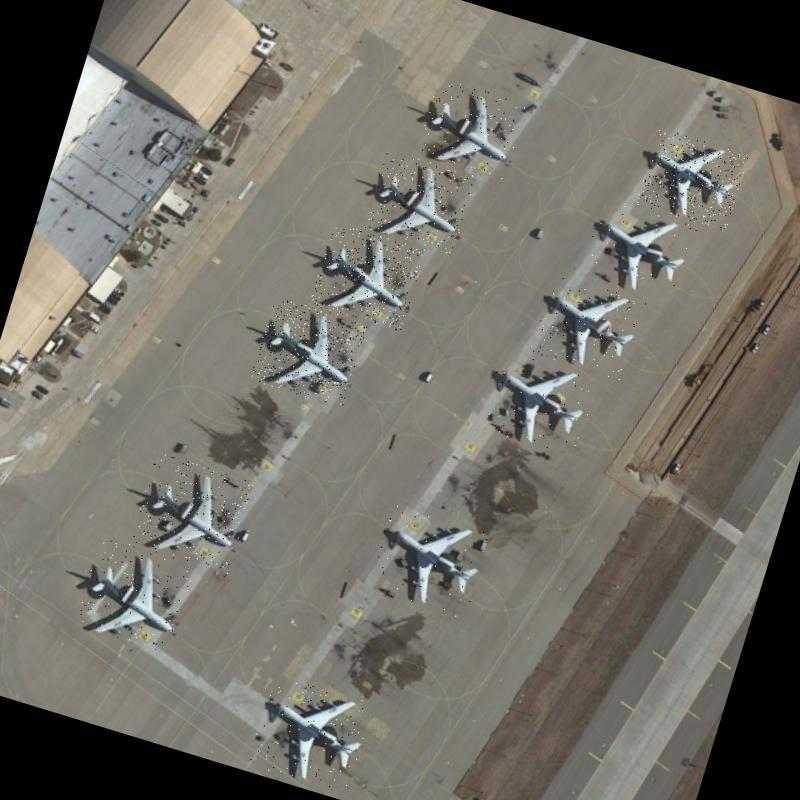A7: (127, 452, 256, 578), (247, 673, 375, 795), (72, 536, 196, 656), (368, 504, 490, 622), (476, 348, 600, 461), (578, 196, 700, 307), (249, 295, 368, 408), (309, 222, 426, 332), (530, 274, 646, 382), (364, 149, 477, 256), (415, 76, 528, 181), (636, 128, 748, 232)
